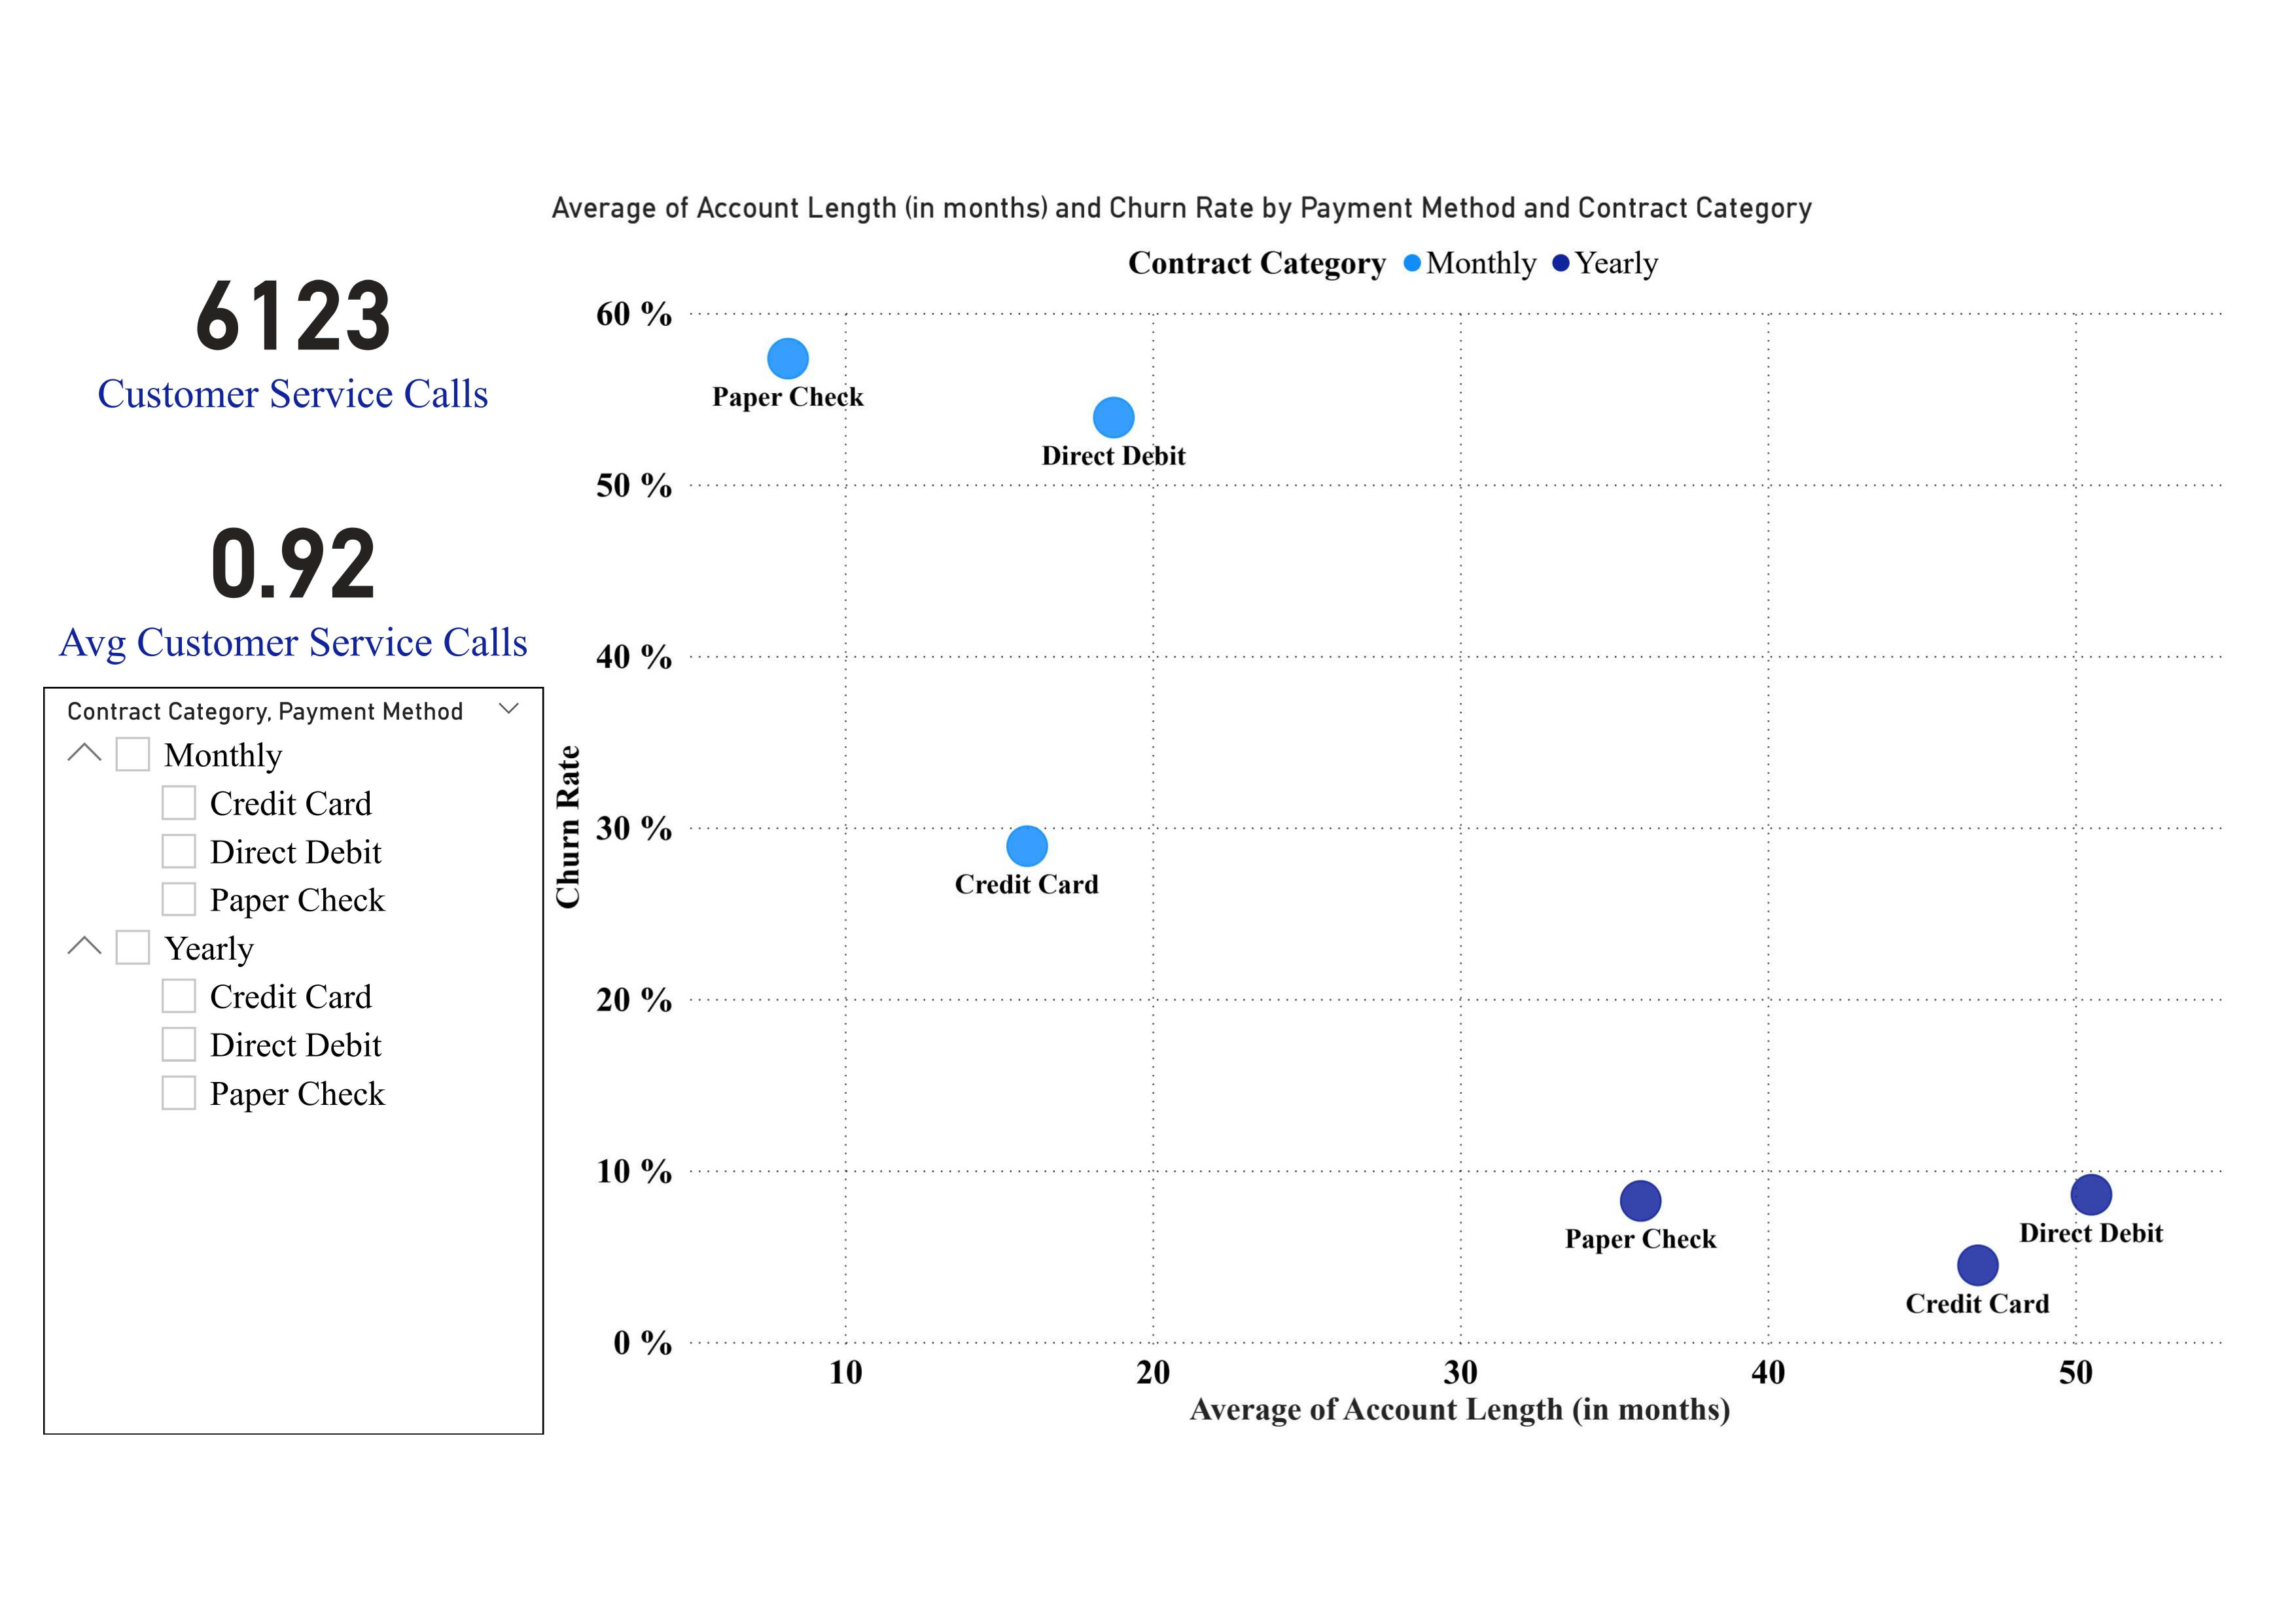

The dashboard page shown, as its layout file describes it:
{"tool":"powerbi","page":{"name":"Payment and Contract","canvas":[1280,720],"ordinal":5},"visuals":[{"type":"card","fields":{"Values":["Sum(Databel - Data.Customer Service Calls)"]},"box":[0,0,289.5,157],"z":0},{"type":"card","fields":{"Values":["Databel - Data.Avg Customer Service Calls"]},"box":[0,157,289.5,130.2],"z":1000},{"type":"scatterChart","fields":{"Y":["Databel - Data.Churn Rate"],"X":["Databel - Data.Account Length (in months)"],"Category":["Databel - Data.Payment Method"],"Series":["Databel - Data.Contract Category"]},"box":[289.5,0,990.7,719.8],"z":2000},{"type":"slicer","fields":{"Values":["Databel - Data.Contract Category","Databel - Data.Payment Method"]},"box":[0,287.2,289.5,432.6],"z":3000}]}

Visuals, with their boxes on the page's 1280x720 design canvas (x1, y1, x2, y2). These are canvas units, not pixel positions in the 2296x1623 screenshot, which may show the page scaled, cropped or inside an application window:
card - Sum(Databel - Data.Customer Service Calls): Rect(0, 0, 290, 157)
card - Databel - Data.Avg Customer Service Calls: Rect(0, 157, 290, 287)
scatterChart - Databel - Data.Churn Rate x Databel - Data.Account Length (in months): Rect(290, 0, 1280, 720)
slicer - Databel - Data.Contract Category x Databel - Data.Payment Method: Rect(0, 287, 290, 720)
